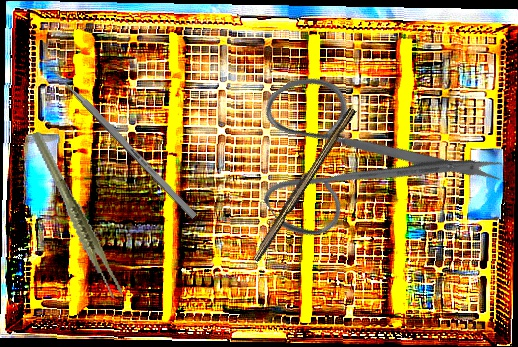Iris Scissors: (216, 9, 510, 296)
Pusher: (41, 58, 198, 220)
Scalpel Handle: (249, 103, 357, 265)
Tissue Forceps: (29, 121, 125, 308)
